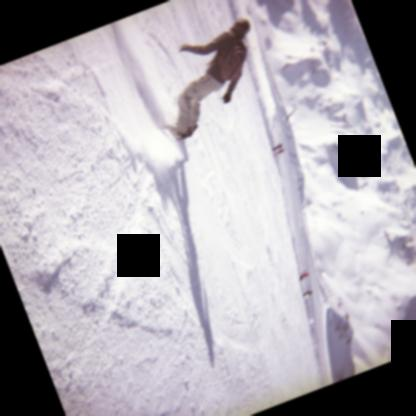backpack: (215, 44, 245, 82)
